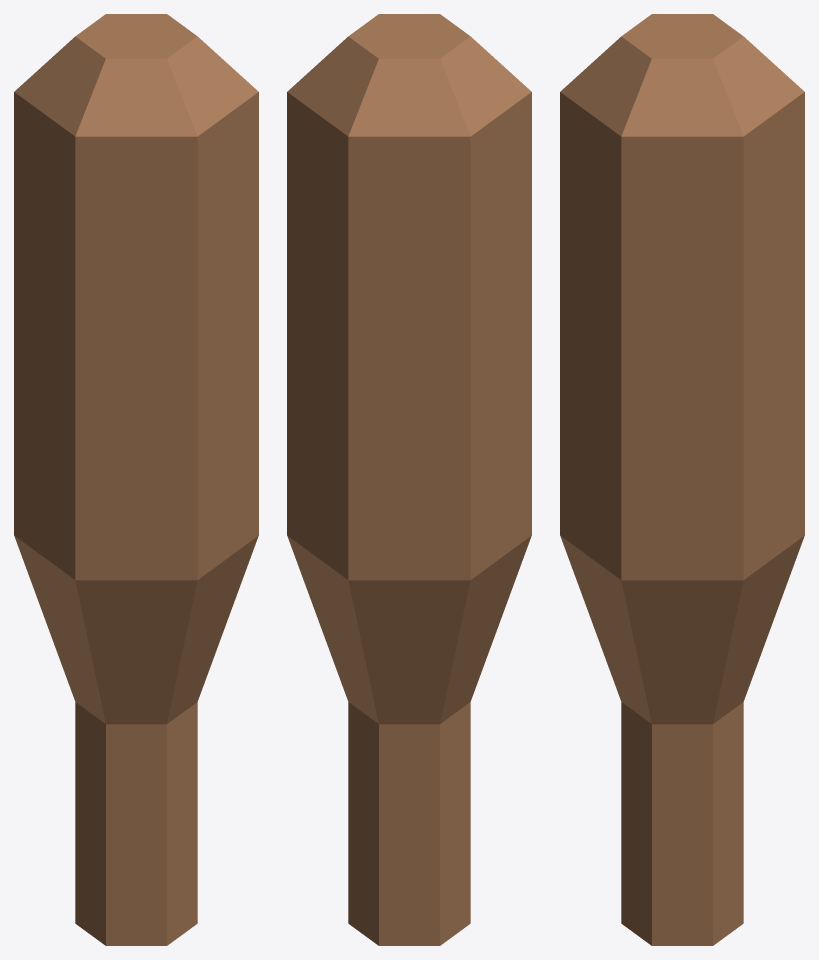
Rendered from BaseballBat.fbx.
The picture shows the model from 3 angles, left to right: view 1: azimuth 30°, elevation 25°; view 2: azimuth 150°, elevation 25°; view 3: azimuth 270°, elevation 25°; orthographic projection.
Visible parts, largest first — view 1: BaseballBat; view 2: BaseballBat; view 3: BaseballBat.
Boxes of the visible parts, x1,y1,x2,y2 form: BaseballBat: (14, 14, 258, 945); BaseballBat: (287, 14, 531, 945); BaseballBat: (560, 14, 804, 945).
Bounding box in the file's own units: 17.32 × 80 × 20.
